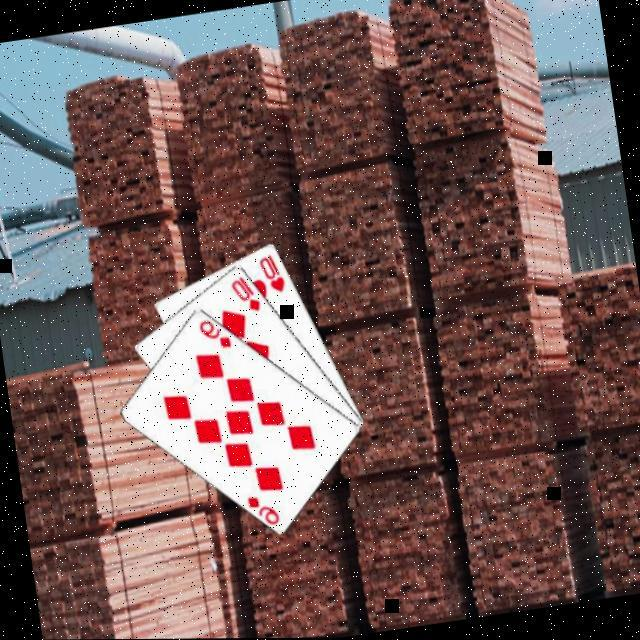10D: (228, 269, 266, 315)
10H: (256, 248, 290, 295)
9D: (194, 310, 236, 352), (243, 488, 284, 528)
